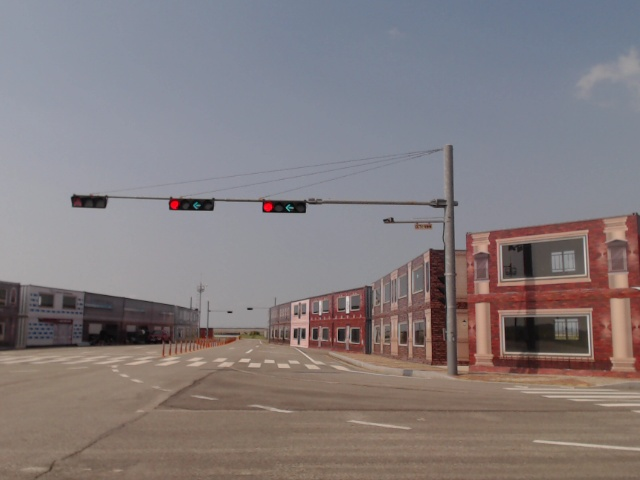left_green_4: (169, 198, 215, 211), (263, 200, 307, 213)
